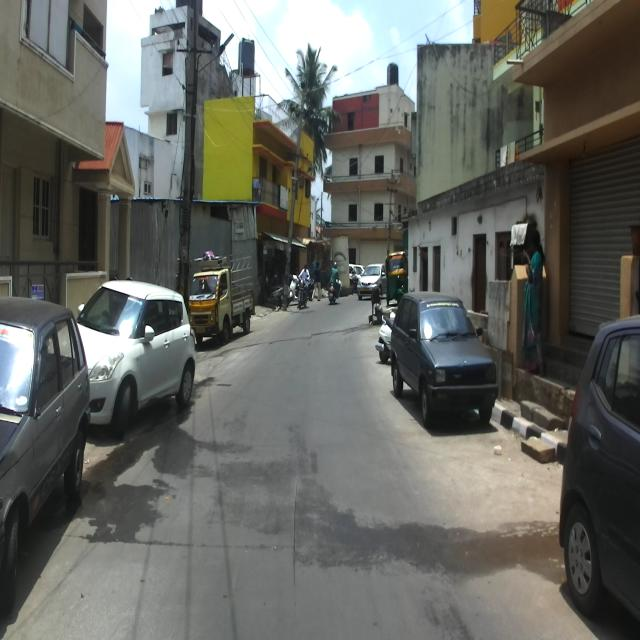car ahead at: (1, 297, 84, 601), (561, 318, 639, 640), (85, 279, 197, 426), (389, 293, 501, 430), (196, 263, 253, 343), (207, 455, 208, 455)
